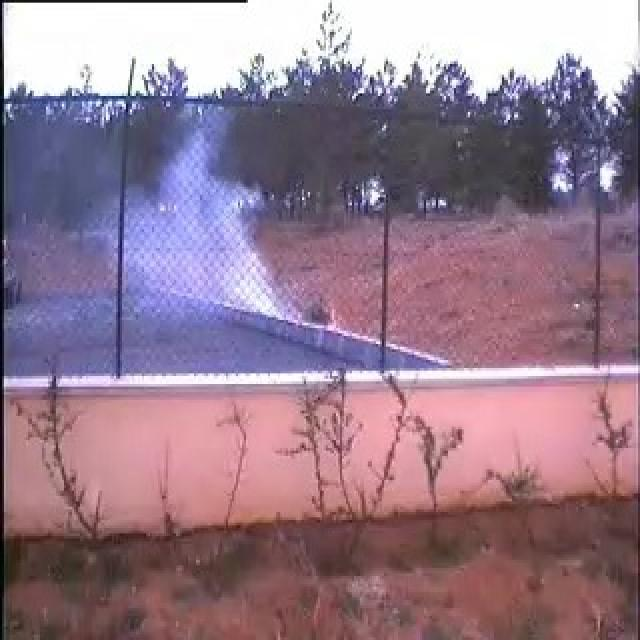smoke: (100, 102, 300, 322)
